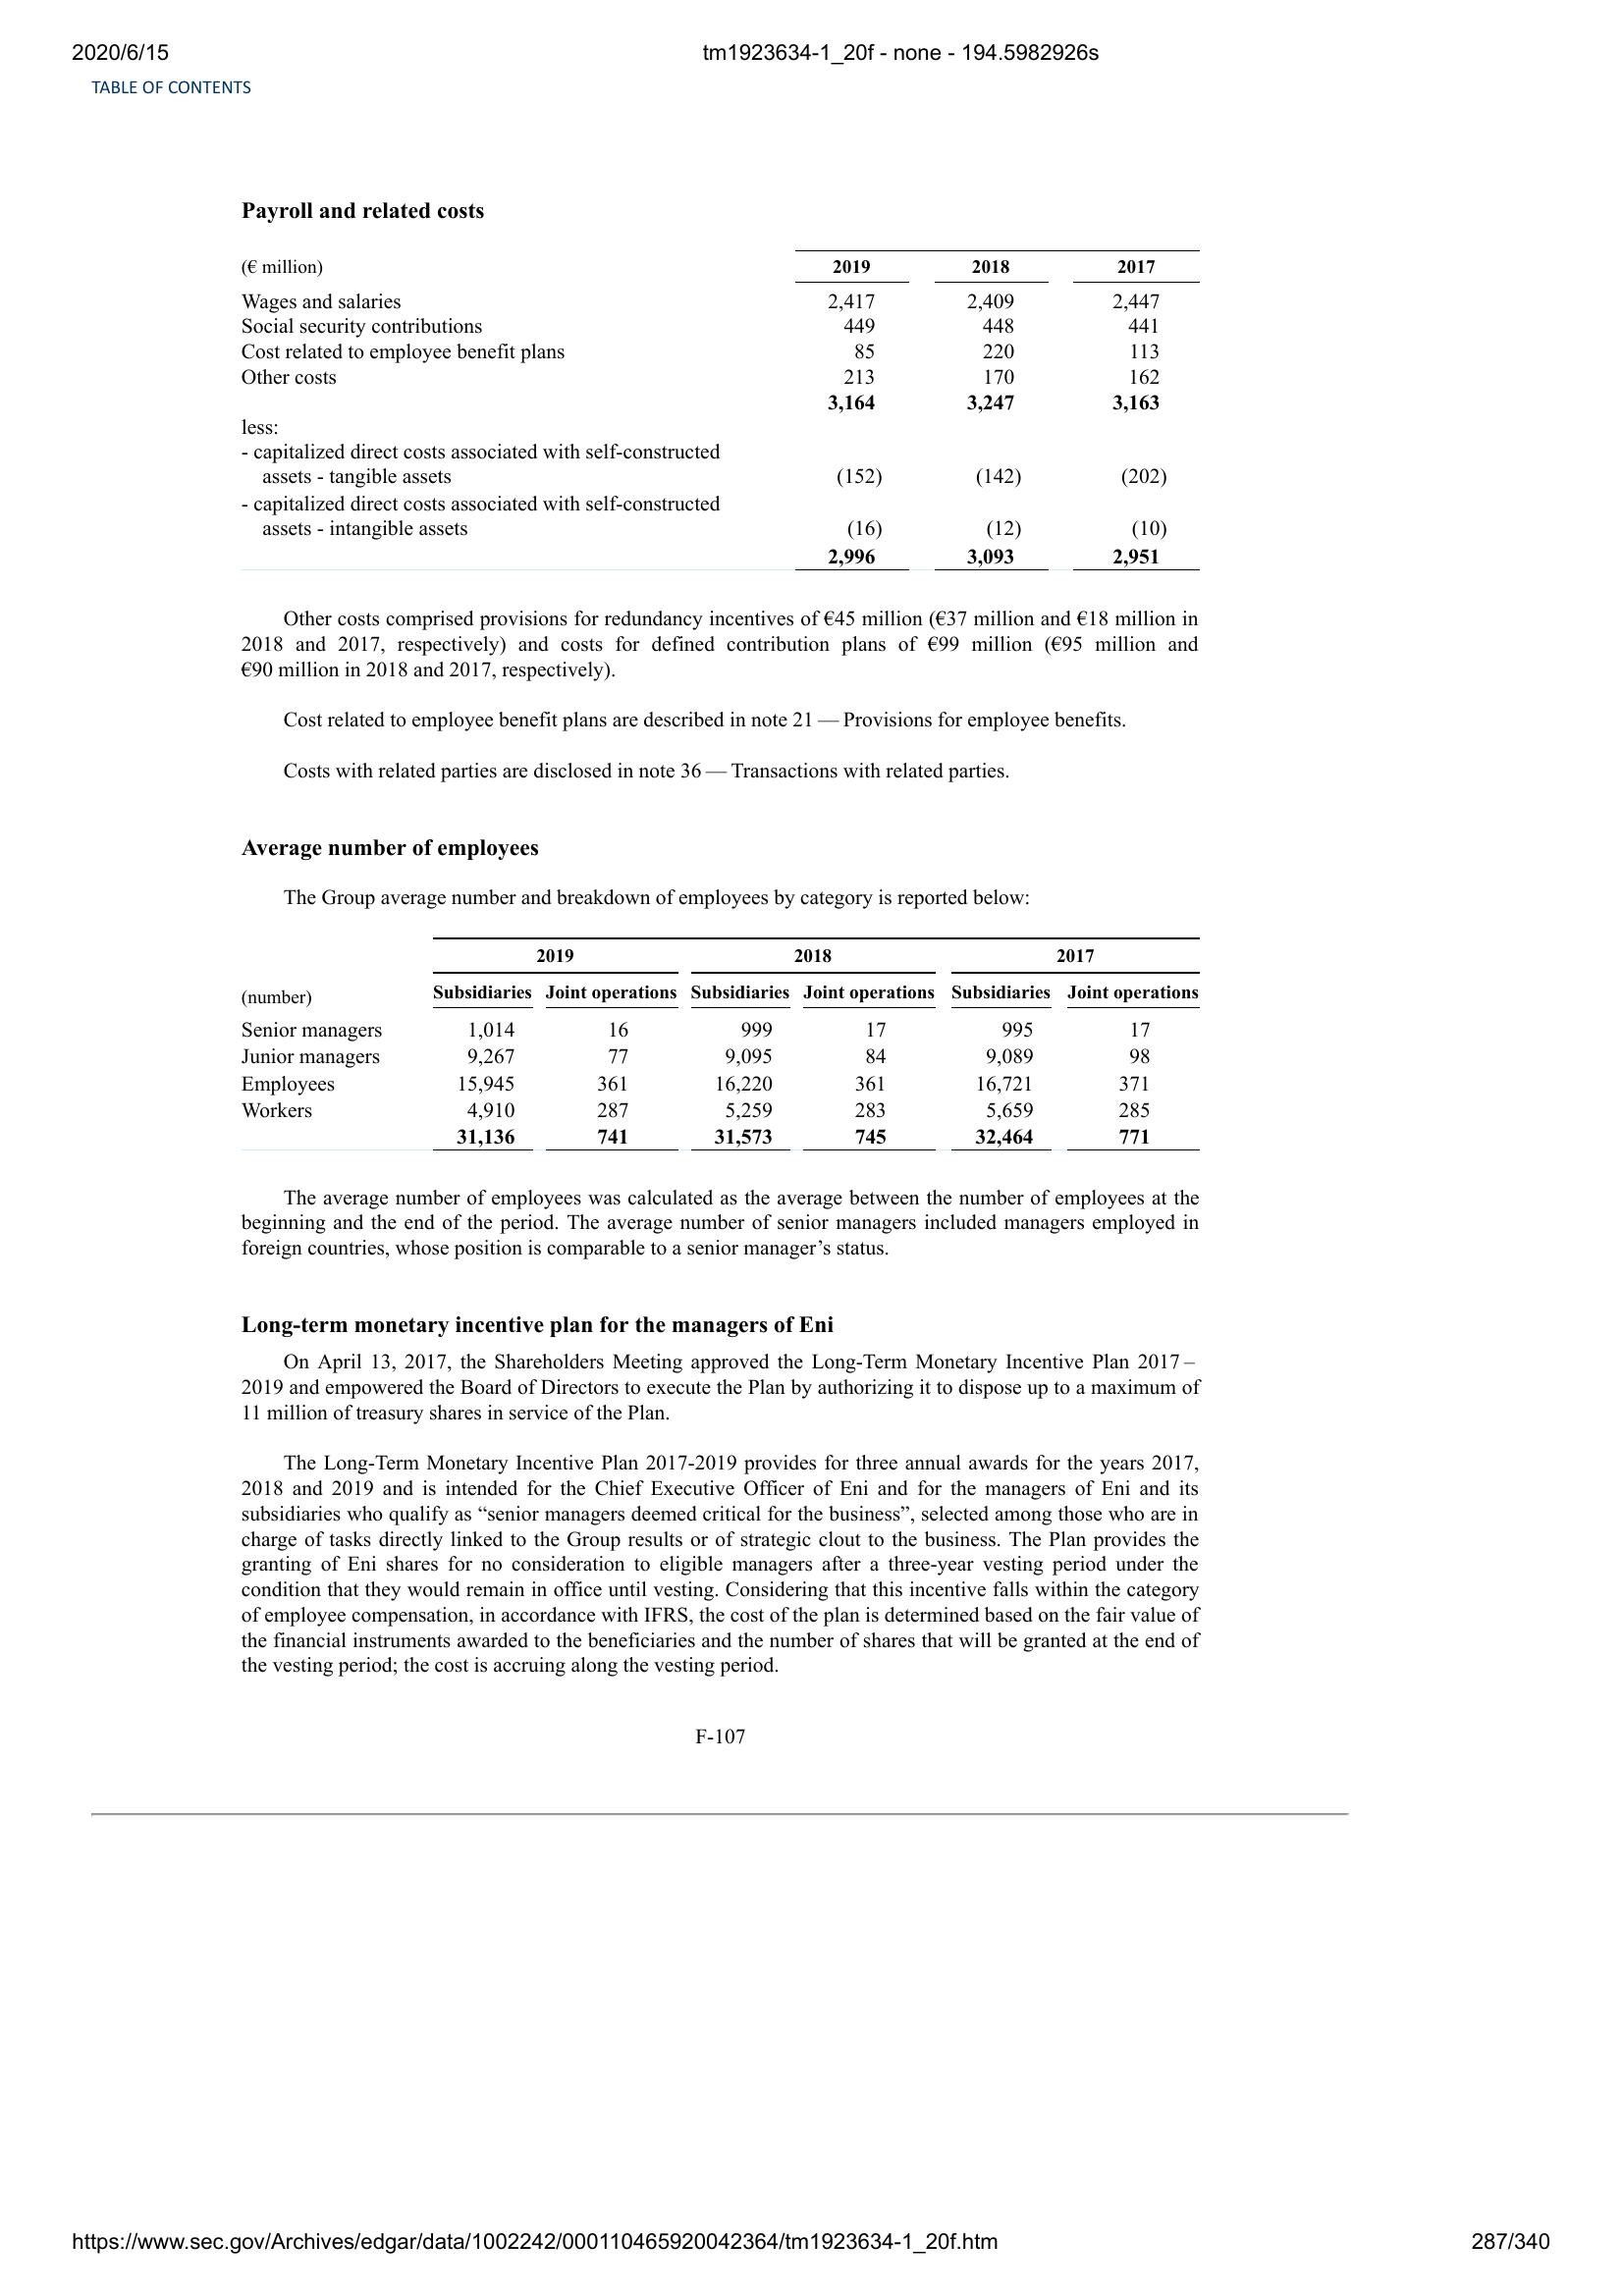table: (232, 242, 1205, 576), (237, 930, 1205, 1166)
